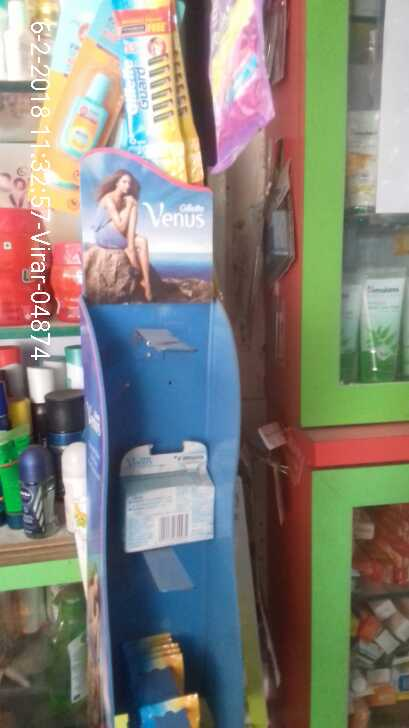beauty: (118, 9, 192, 162)
